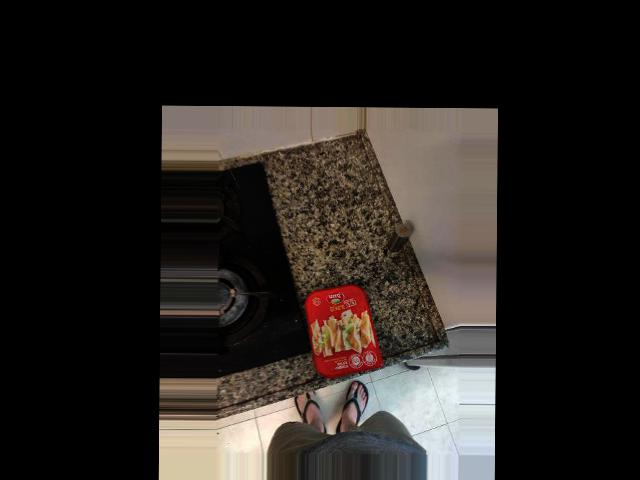cheese: (290, 184, 370, 299)
